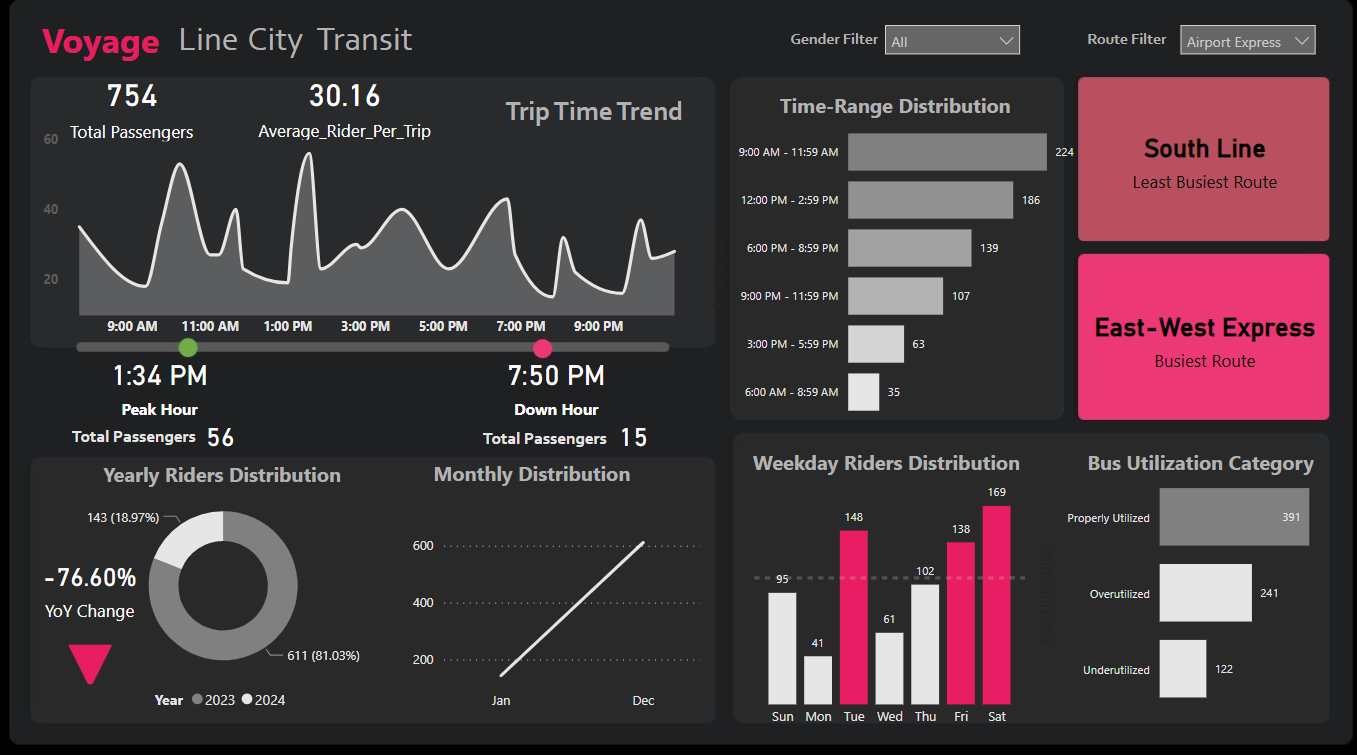

This screenshot's page, from the dashboard's own definition file:
{"tool":"powerbi","page":{"name":"Page 1","canvas":[1280,720],"ordinal":0},"visuals":[{"type":"card","fields":{"Values":["Calculation.Busiest Route"]},"box":[1017.3,264.9,228.3,118.4],"z":0},{"type":"areaChart","fields":{"Category":["modified_ridership.Time"],"Y":["Calculation.Total Passengers"]},"box":[35.2,124,627,208.5],"z":3000},{"type":"card","fields":{"Values":["Calculation.Peak Hour"]},"box":[45.1,332.5,208.5,71.9],"z":4000},{"type":"card","fields":{"Values":["Calculation.Down Hour of Operation"]},"box":[435.4,332.5,173.3,71.9],"z":5000},{"type":"card","fields":{"Values":["Calculation.V Down Hour of Operation"]},"box":[515.7,383.2,157.8,67.6],"z":6000},{"type":"card","fields":{"Values":["Calculation.V Peak Hour"]},"box":[119.8,390.3,173.3,53.5],"z":7000},{"type":"clusteredColumnChart","fields":{"Category":["Date.Weekday"],"Y":["Calculation.Total Passengers"]},"box":[703.1,445.2,264.9,253.6],"z":9000},{"type":"lineChart","fields":{"Category":["Date.Month"],"Y":["Calculation.Total Passengers"]},"box":[381.8,479.1,280.4,204.3],"z":10000},{"type":"donutChart","fields":{"Category":["Date.Year"],"Y":["Calculation.Total Passengers"]},"box":[36.6,460.7,345.2,222.6],"z":11000},{"type":"card","fields":{"Values":["Calculation.YoY Change"]},"box":[18.3,504.4,131,108.5],"z":12000},{"type":"card","fields":{"Values":["Calculation.YoY check"]},"box":[49.3,600.2,70,55],"z":13000},{"type":"actionButton","box":[35.2,9.9,128.2,67.6],"z":14000},{"type":"actionButton","box":[163.4,9.9,128.2,67.6],"z":15000},{"type":"actionButton","box":[228.3,9.9,64.8,67.6],"z":16000},{"type":"actionButton","box":[293.1,9.9,128.2,67.6],"z":17000},{"type":"actionButton","box":[470.6,77.5,191.6,67.6],"z":18000},{"type":"actionButton","box":[728.5,88.8,239.5,35.2],"z":19000},{"type":"card","fields":{"Values":["Calculation.Total Passengers"]},"box":[49.3,66.2,147.9,78.9],"z":22000},{"type":"card","fields":{"Values":["Calculation.Average_Rider_Per_Trip"]},"box":[225.4,66.2,195.9,77.5],"z":23000},{"type":"actionButton","box":[63.4,390.3,171.9,53.5],"z":24000},{"type":"actionButton","box":[449.5,391.7,131,53.5],"z":25000},{"type":"actionButton","box":[738.3,16.9,97.2,53.5],"z":28000},{"type":"actionButton","box":[1017.3,16.9,97.2,53.5],"z":29000},{"type":"actionButton","box":[703.1,424.1,264.9,35.2],"z":30000},{"type":"actionButton","box":[1017.3,424.1,239.5,35.2],"z":31000},{"type":"actionButton","box":[93,435.4,264.9,35.2],"z":31001},{"type":"actionButton","box":[403,434,264.9,35.2],"z":31002},{"type":"card","fields":{"Values":["Calculation.Least Busiest Route"]},"box":[1017.3,78.9,228.3,153.6],"z":31003},{"type":"clusteredBarChart","fields":{"Category":["modified_ridership.TimeGroup"],"Y":["Calculation.Total Passengers"]},"box":[659.4,101.4,357.9,315.6],"z":31004},{"type":"clusteredBarChart","fields":{"Category":["modified_ridership.Bus Utilization"],"Y":["Calculation.Total Passengers"]},"box":[968,424.1,288.8,274.8],"z":31005},{"type":"slicer","fields":{"Values":["modified_routes.RouteName"]},"box":[1099,21.1,146.5,45.1],"z":31006},{"type":"slicer","fields":{"Values":["modified_demographics.Gender"]},"box":[821.4,21.1,146.5,45.1],"z":31007}]}

Visuals, with their boxes in screenshot pixels (x1, y1, x2, y2), scaled from the page's 1280x720 canvas onto the 1357x755 screenshot:
card - Calculation.Busiest Route: [1078, 278, 1321, 402]
areaChart - modified_ridership.Time x Calculation.Total Passengers: [37, 130, 702, 349]
card - Calculation.Peak Hour: [48, 349, 269, 424]
card - Calculation.Down Hour of Operation: [462, 349, 645, 424]
card - Calculation.V Down Hour of Operation: [547, 402, 714, 473]
card - Calculation.V Peak Hour: [127, 409, 311, 465]
clusteredColumnChart - Date.Weekday x Calculation.Total Passengers: [745, 467, 1026, 733]
lineChart - Date.Month x Calculation.Total Passengers: [405, 502, 702, 717]
donutChart - Date.Year x Calculation.Total Passengers: [39, 483, 405, 717]
card - Calculation.YoY Change: [19, 529, 158, 643]
card - Calculation.YoY check: [52, 629, 126, 687]
actionButton: [37, 10, 173, 81]
actionButton: [173, 10, 309, 81]
actionButton: [242, 10, 311, 81]
actionButton: [311, 10, 447, 81]
actionButton: [499, 81, 702, 152]
actionButton: [772, 93, 1026, 130]
card - Calculation.Total Passengers: [52, 69, 209, 152]
card - Calculation.Average_Rider_Per_Trip: [239, 69, 447, 151]
actionButton: [67, 409, 249, 465]
actionButton: [477, 411, 615, 467]
actionButton: [783, 18, 886, 74]
actionButton: [1078, 18, 1182, 74]
actionButton: [745, 445, 1026, 482]
actionButton: [1078, 445, 1332, 482]
actionButton: [99, 457, 379, 493]
actionButton: [427, 455, 708, 492]
card - Calculation.Least Busiest Route: [1078, 83, 1321, 244]
clusteredBarChart - modified_ridership.TimeGroup x Calculation.Total Passengers: [699, 106, 1078, 437]
clusteredBarChart - modified_ridership.Bus Utilization x Calculation.Total Passengers: [1026, 445, 1332, 733]
slicer - modified_routes.RouteName: [1165, 22, 1320, 69]
slicer - modified_demographics.Gender: [871, 22, 1026, 69]
